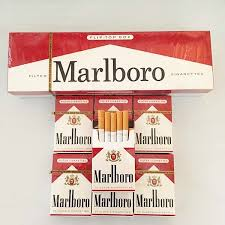marlboro: (91, 134, 135, 192), (135, 153, 175, 216), (51, 155, 91, 217), (55, 96, 93, 152), (135, 96, 172, 151)
